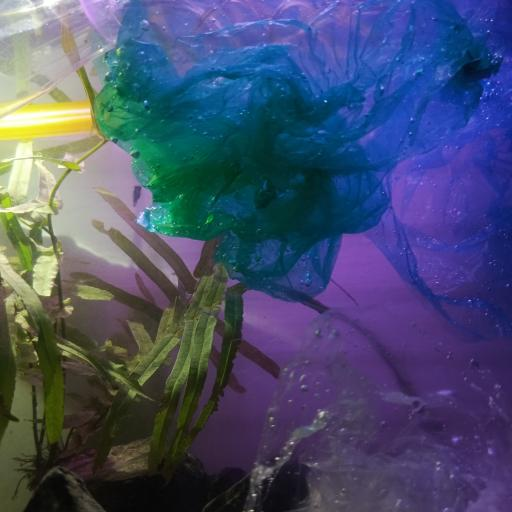plastic_bag: (109, 0, 512, 337), (94, 55, 347, 302), (240, 289, 512, 512)
plastic_cup: (0, 0, 127, 120)
plastic_straw: (0, 103, 94, 141)
